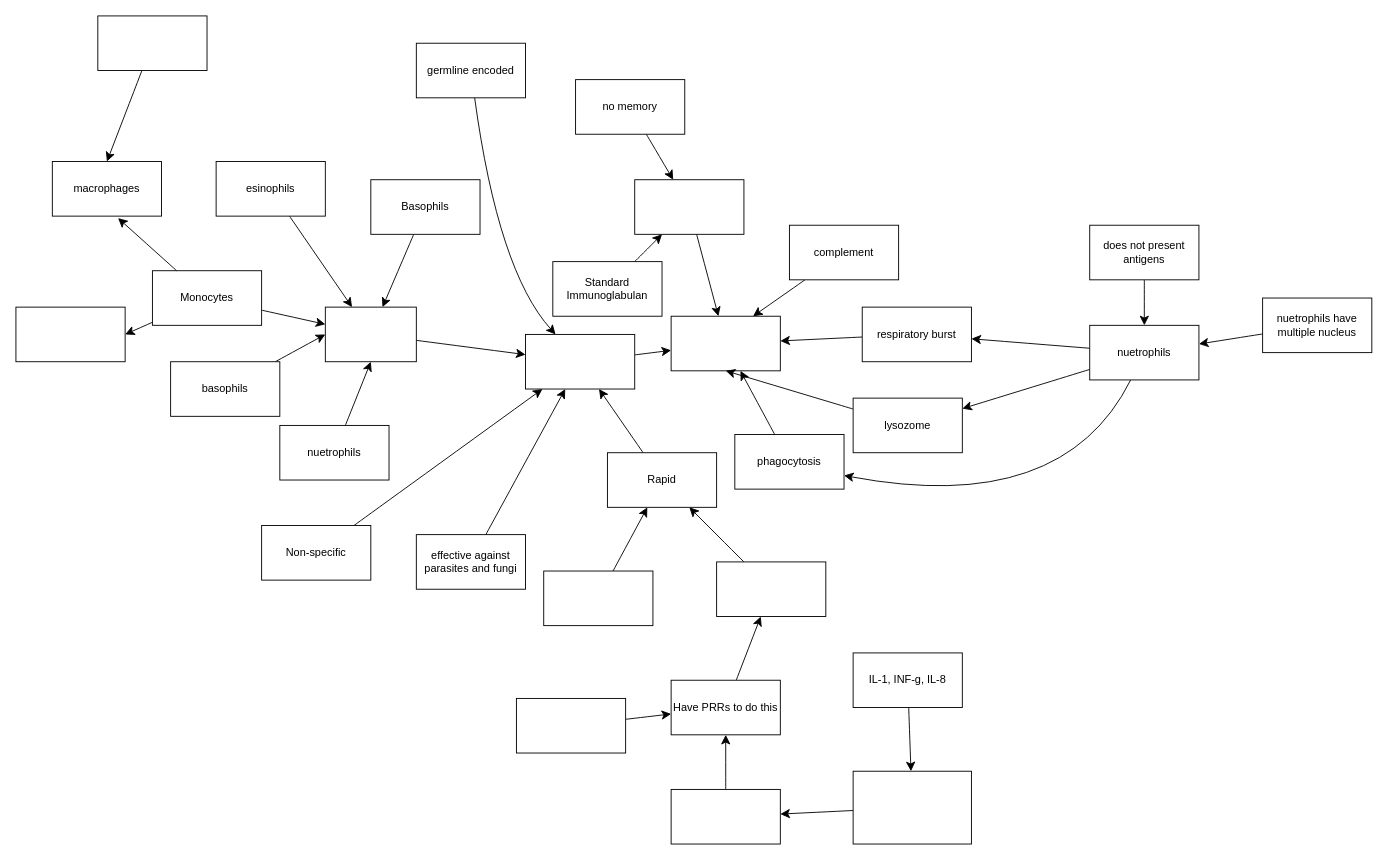
This 1388x860 diagram has some shape labels left out. Here are the shapes that lost their labels. From the top down, the centre of each, then its label:
At point 152,43: "can present antigens".
At point 689,206: "IgM".
At point 70,334: "dendritic cells".
At point 370,334: "cells invovlved".
At point 725,343: "How can pathogen be removed".
At point 580,361: "Innate Immunity".
At point 598,598: "Equal every time no memory".
At point 771,589: "Recognizes a standard thing presented by pathogens".
At point 571,725: "Are all PRRs toll like receptors?".
At point 725,816: "generate an acute inflamatory response".
At point 911,807: "NFK-B improtant trans factor that creates pro-inflammatory cytokines".
